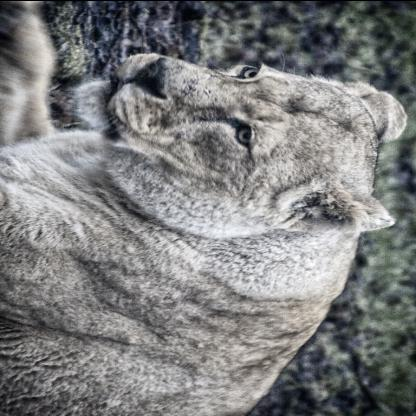lion: (81, 57, 412, 247)
